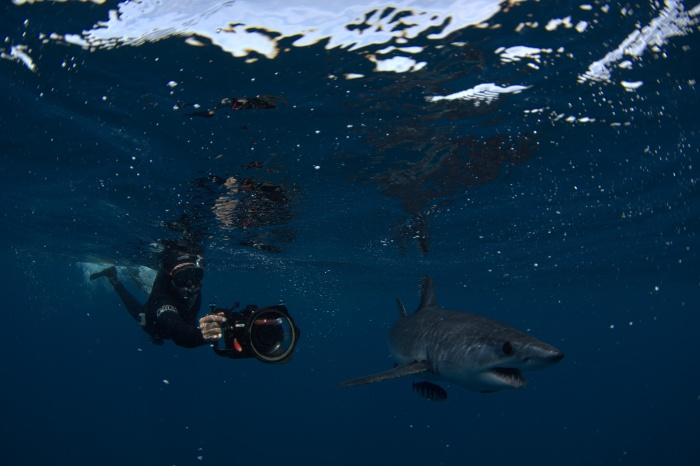Mako: (332, 270, 580, 413)
